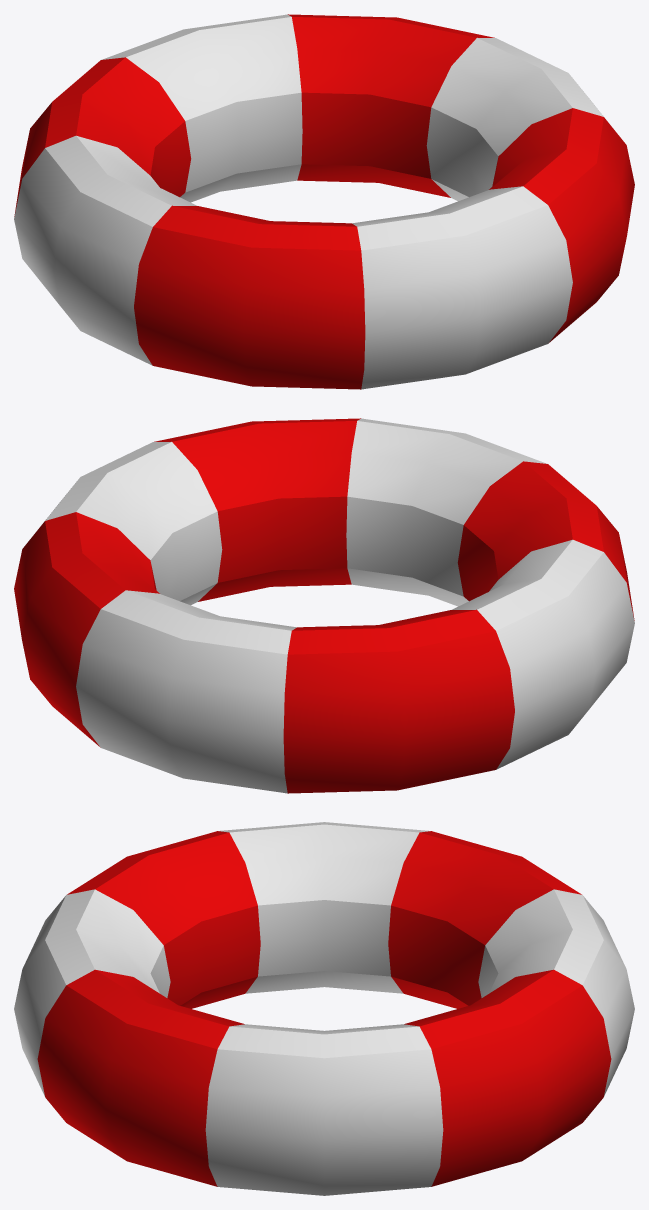
File: lifebuoy_A.fbx
3 renders of one model, top to bottom at view 1: azimuth 30°, elevation 25°; view 2: azimuth 150°, elevation 25°; view 3: azimuth 270°, elevation 25°, orthographic.
Visible parts, largest first — view 1: lifebuoy_A; view 2: lifebuoy_A; view 3: lifebuoy_A.
Part boxes in pixels (box(x1,y1,x2,y2)): lifebuoy_A: box(14, 14, 634, 389); lifebuoy_A: box(14, 418, 634, 793); lifebuoy_A: box(14, 822, 634, 1195).
Size of the model in its own units: 55.42 by 15.65 by 55.42.
1 material, 1 textured.
